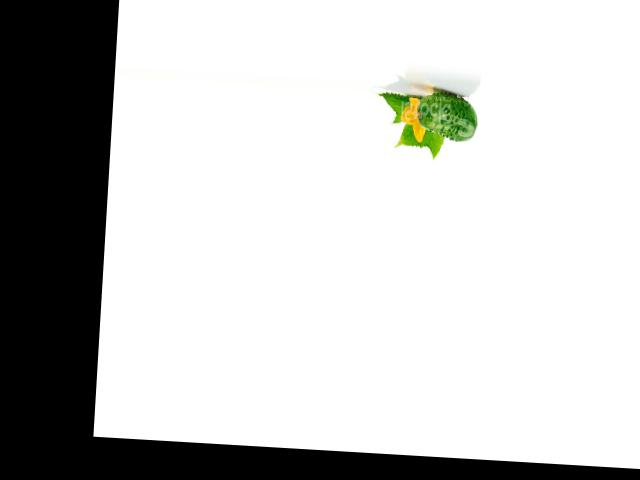cucumber: (417, 91, 479, 142)
